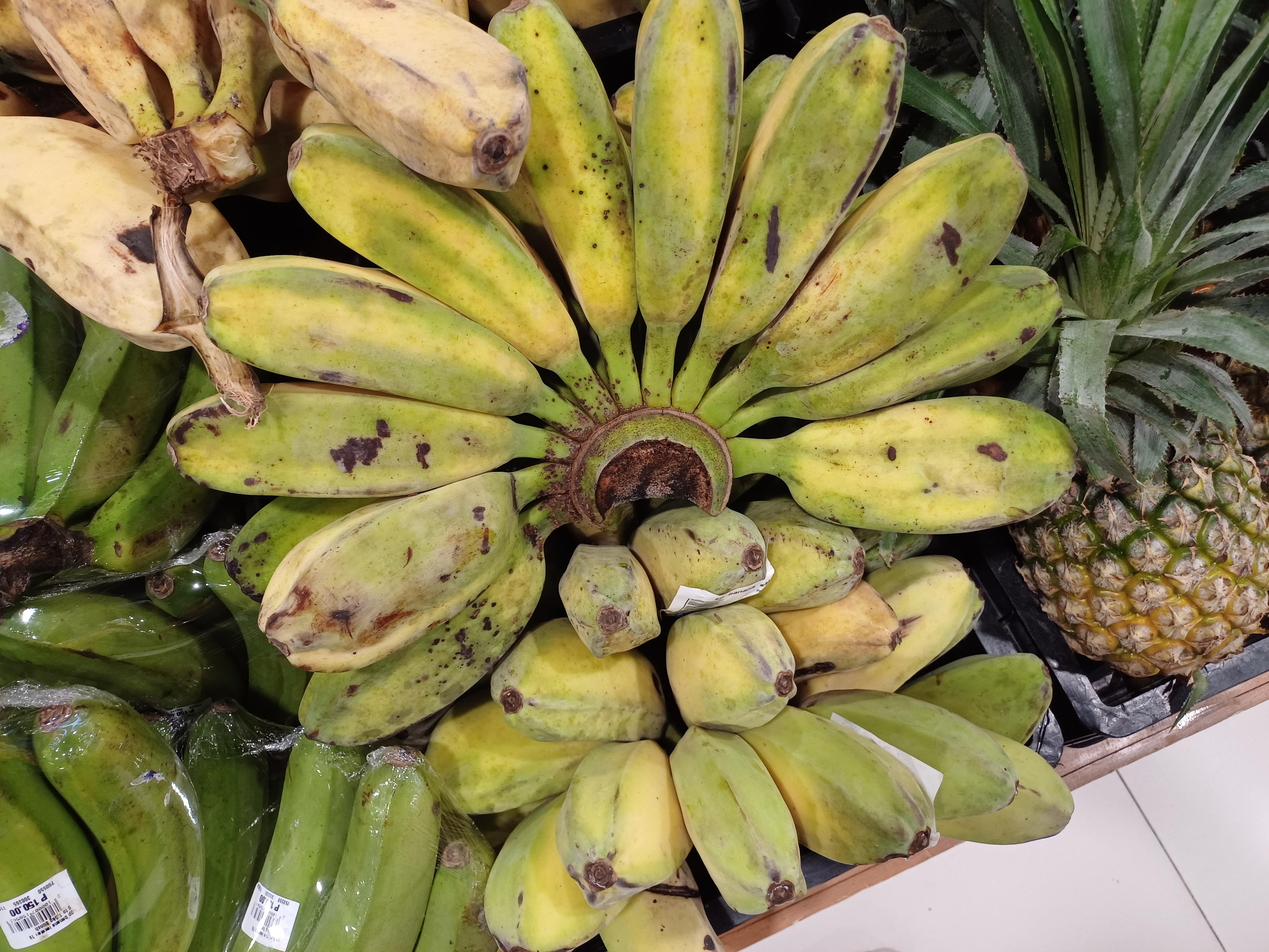underripe: (169, 0, 1073, 744), (428, 499, 1074, 952)
